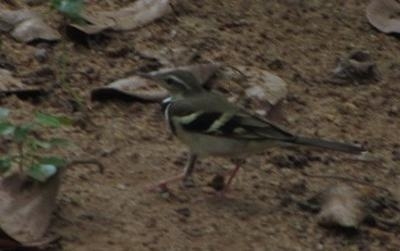wagtail: (142, 60, 311, 186)
